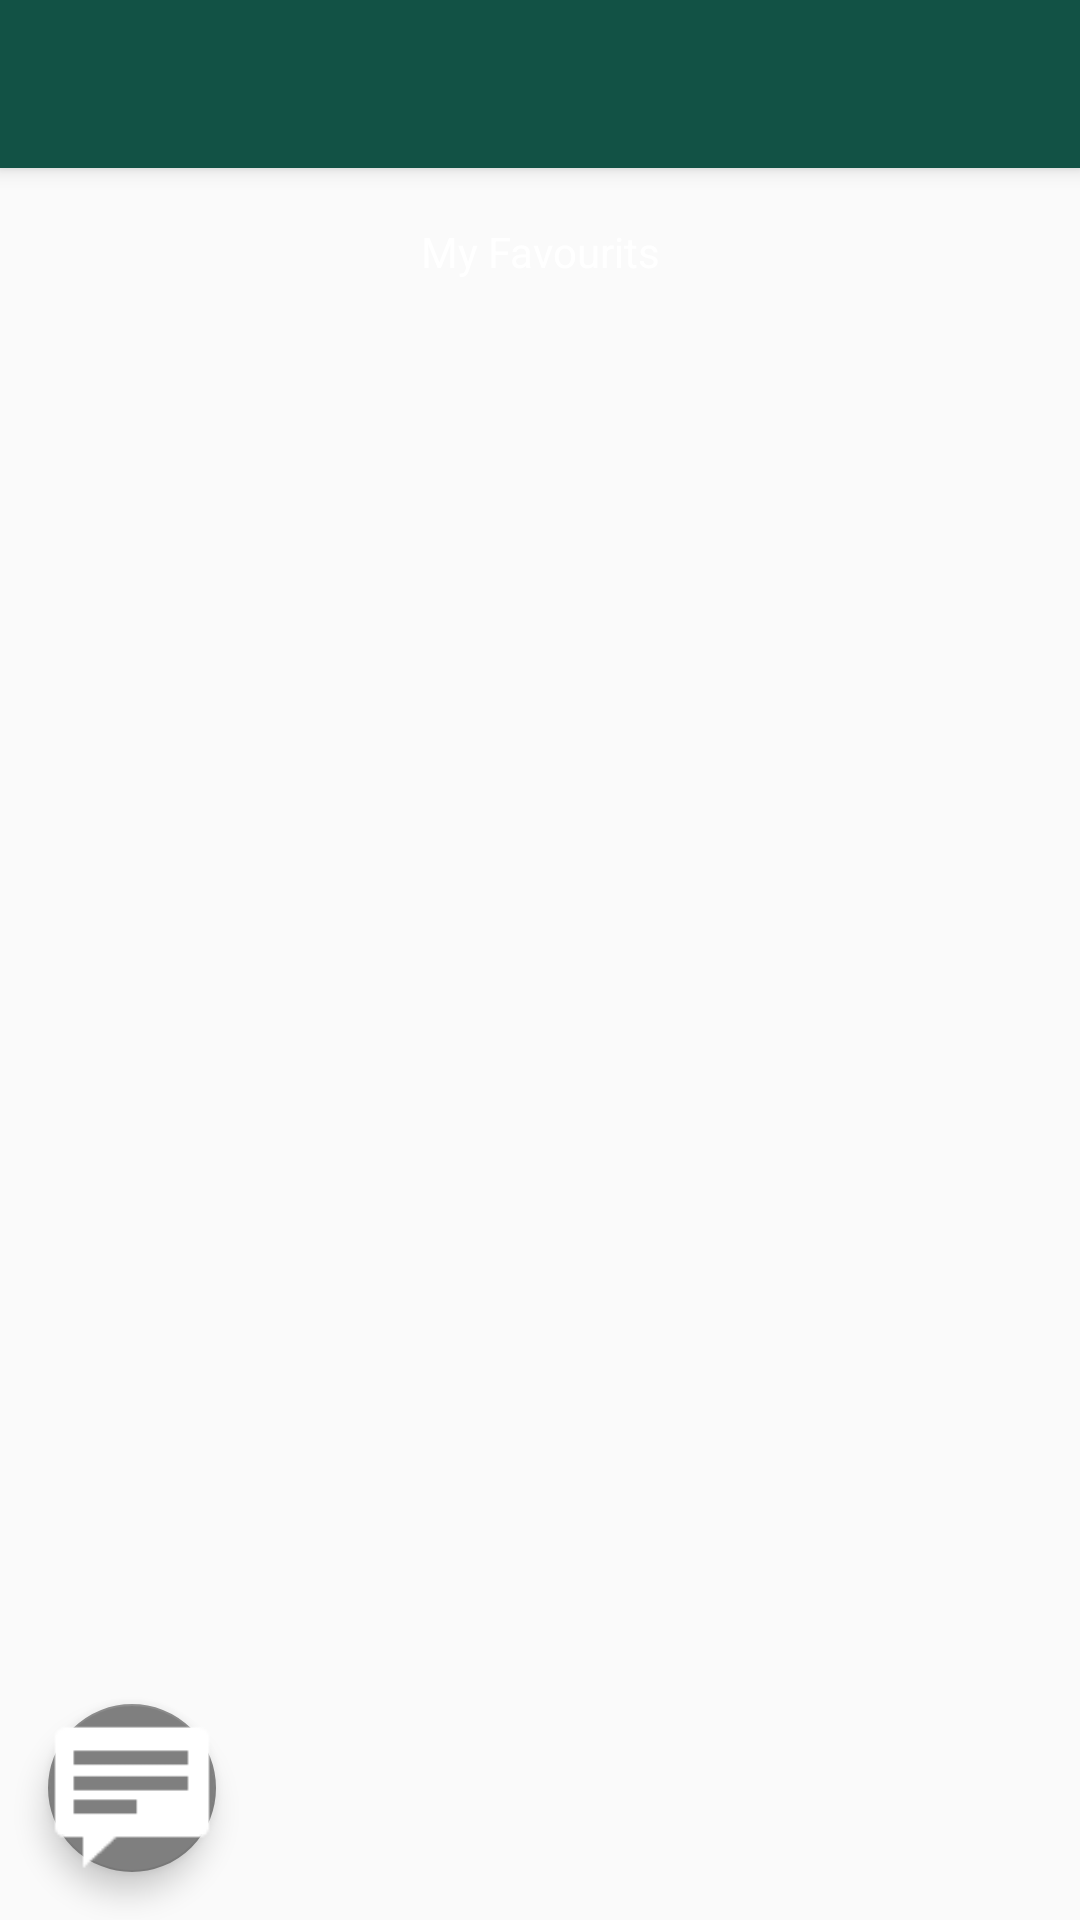

Locate icon controls on the screen. Image size 1080w x 1920h, boxes as detection(x1, y1, x2, y2).
chat: detection(73, 1704, 216, 1822)
